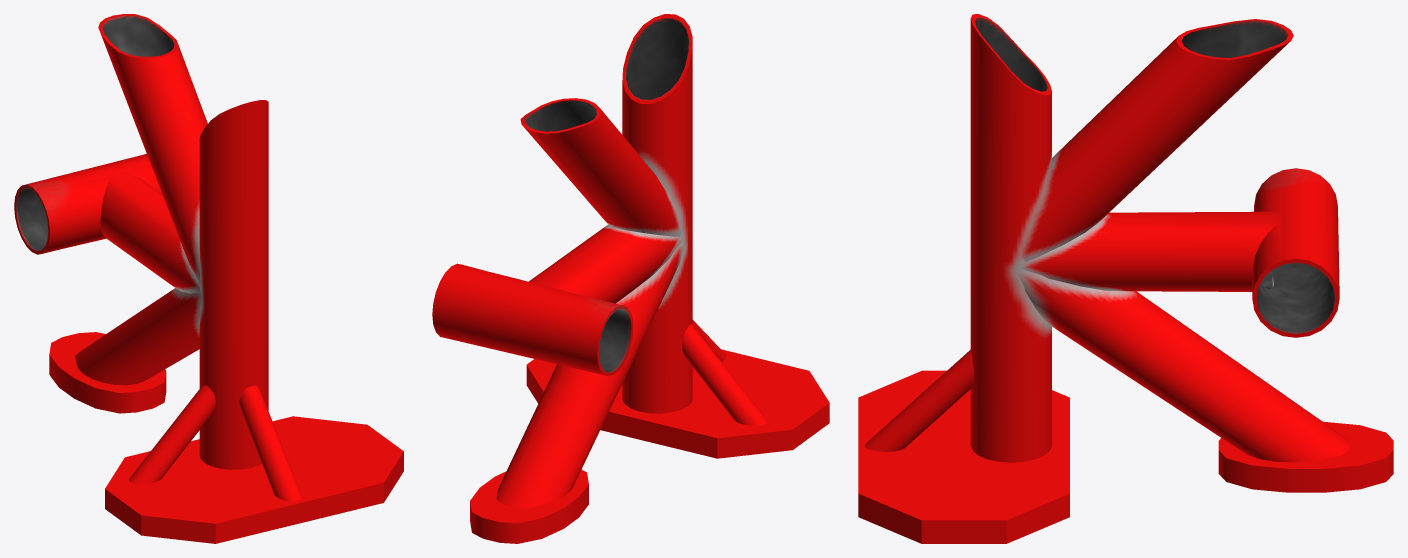
File: Statue.fbx
3 renders of one model, left to right at view 1: azimuth 30°, elevation 25°; view 2: azimuth 150°, elevation 25°; view 3: azimuth 270°, elevation 25°, orthographic. The views are drawn at different scales.
Parts seen in each view (by area): view 1: Statue; view 2: Statue; view 3: Statue.
Boxes of the visible parts, left/top/right/bottom form: Statue: left=14, top=14, right=403, bottom=543; Statue: left=432, top=14, right=829, bottom=543; Statue: left=858, top=14, right=1393, bottom=543.
Bounding box in the file's own units: 155 × 218 × 235.
Materials: 1 (1 with a texture image).
